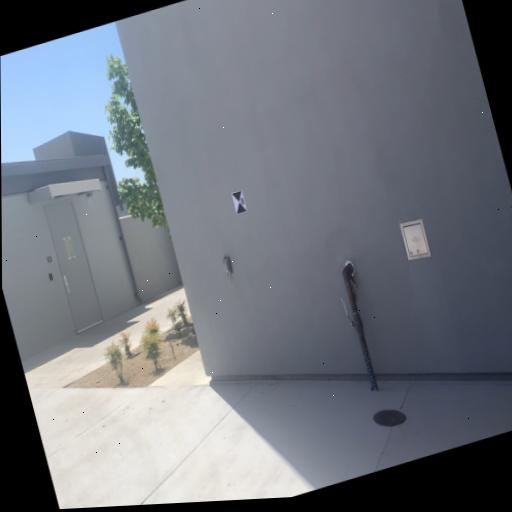target8: (231, 189, 249, 216)
